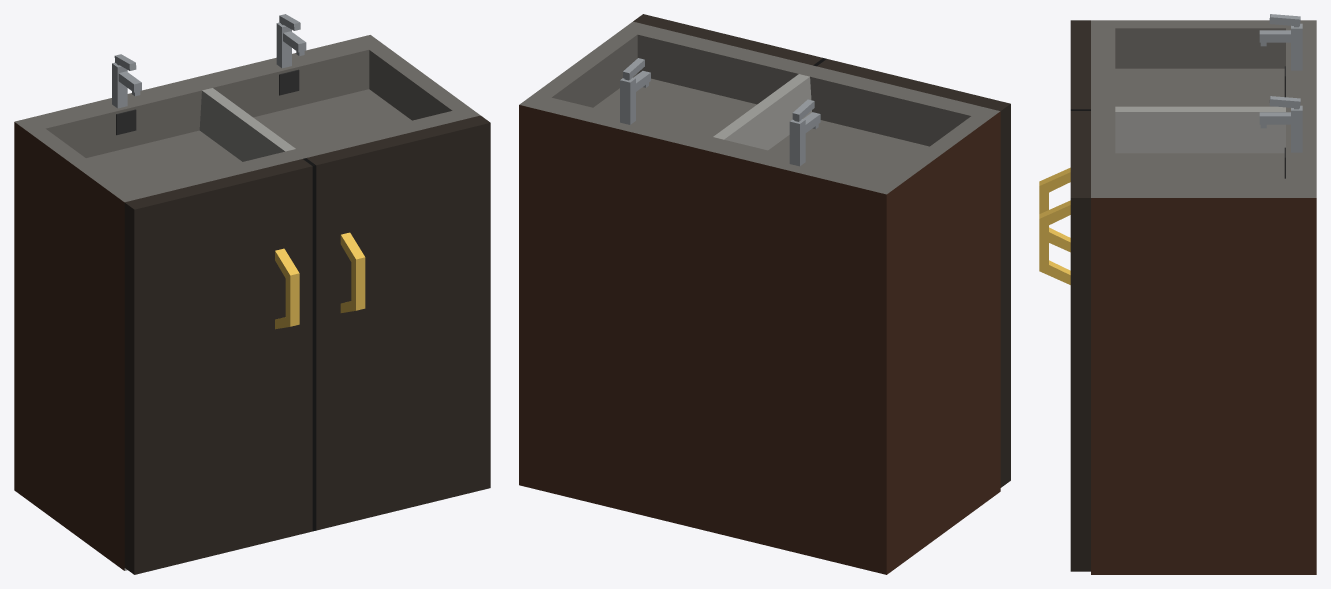
File: Kitchen_Cabinet_5B.fbx
3 views of the same model, side by side, from view 1: azimuth 30°, elevation 25°; view 2: azimuth 150°, elevation 25°; view 3: azimuth 270°, elevation 25° (orthographic). The views are drawn at different scales.
Visible parts, largest first — view 1: polySurface1779; view 2: polySurface1779; view 3: polySurface1779.
Boxes of the visible parts, left/top/right/bottom form: polySurface1779: left=14, top=14, right=490, bottom=574; polySurface1779: left=519, top=14, right=1010, bottom=574; polySurface1779: left=1039, top=14, right=1316, bottom=574.
Bounding box in the file's own units: 1.3 × 1.46 × 0.8565.
1 material, 1 textured.
